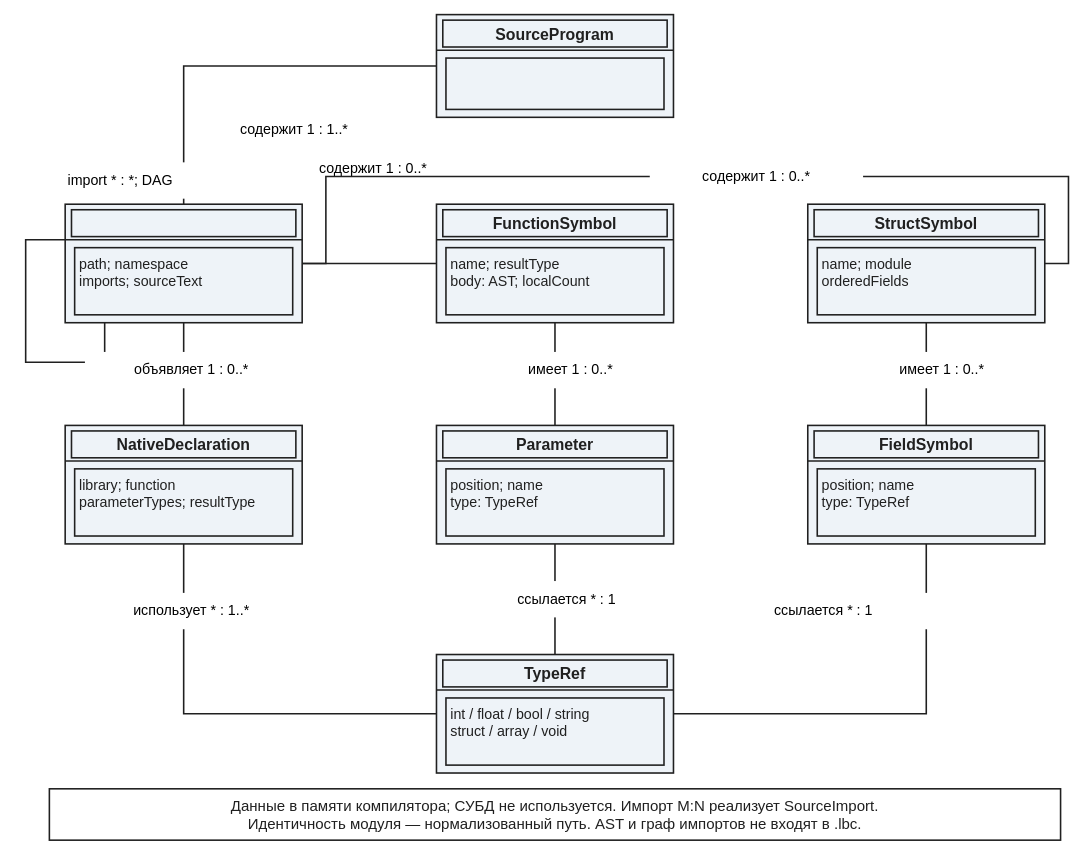
This 1083x854 diagram has some shape labels left out. Each missing label, with the centre of its shape:
"entryModule options; diagnostics" belongs at (x=554, y=83).
"Module" belongs at (x=183, y=223).
